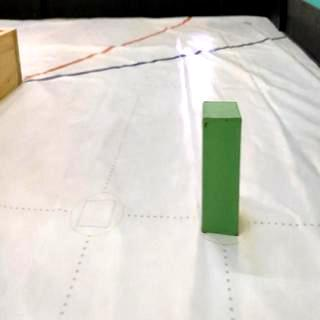greenbox: (201, 98, 243, 237)
